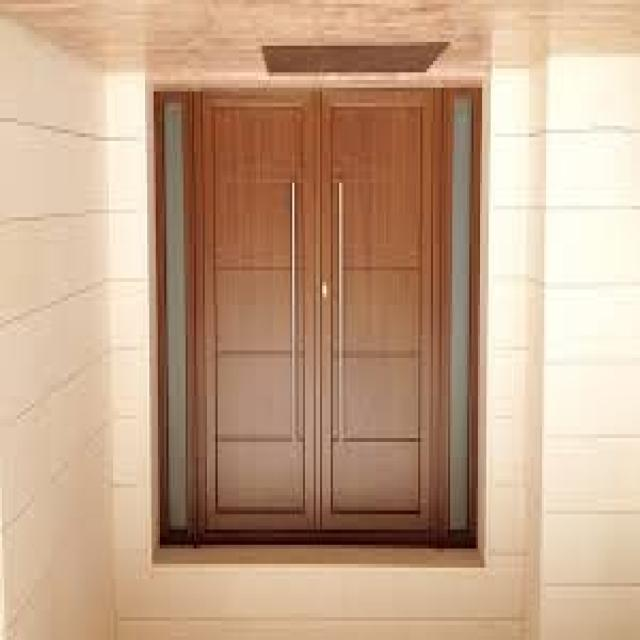door: (197, 88, 447, 544)
